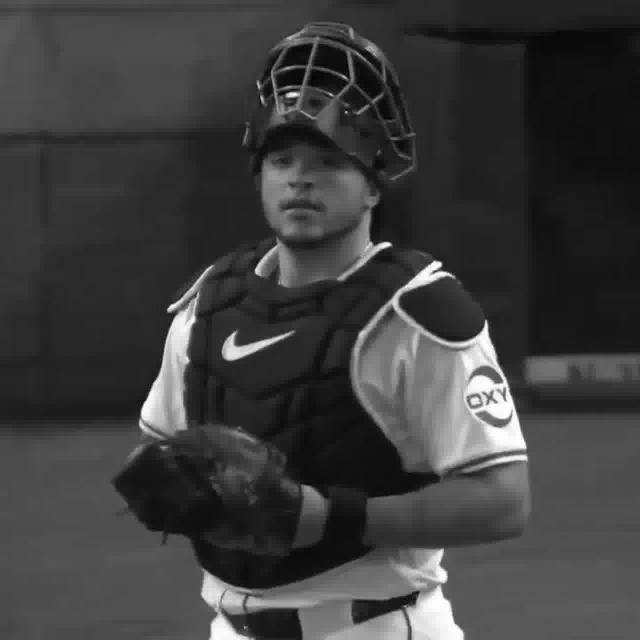baseball_glove: (109, 423, 296, 558)
